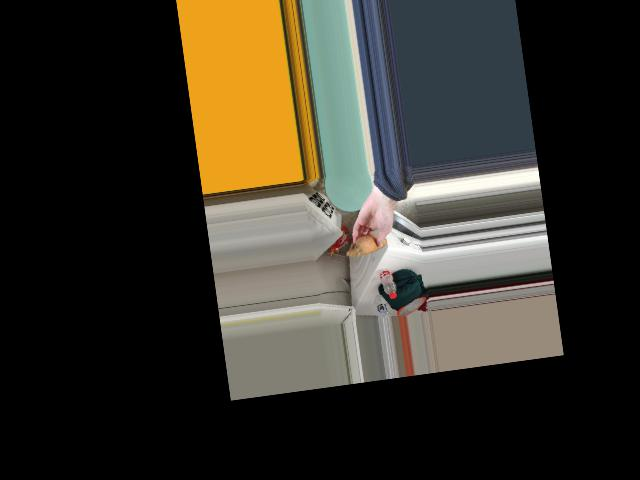sweet_potato: (352, 234, 386, 256)
